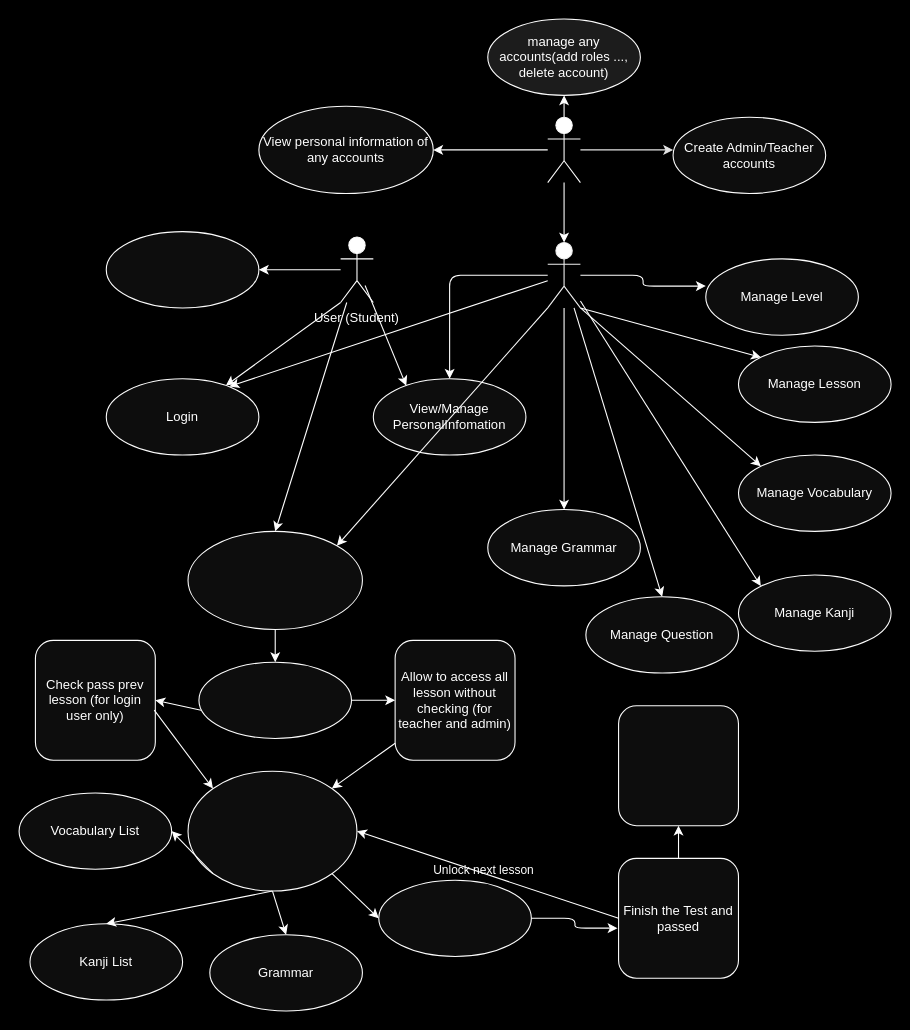
Image size: 910x1030. Some labels were removed from this diagram. Here are the shapes that lost their labels. From the top down, the box of each, then its label:
(547, 116, 580, 183): Admin
(105, 231, 259, 308): Register
(547, 241, 580, 308): Teacher
(187, 530, 362, 629): View Learning Resource
(198, 661, 352, 738): Level Information
(617, 705, 738, 826): Calculate Score and store user progress
(187, 770, 357, 891): Lesson Information (allow all user to accept the first of the level)
(378, 879, 531, 956): Question
